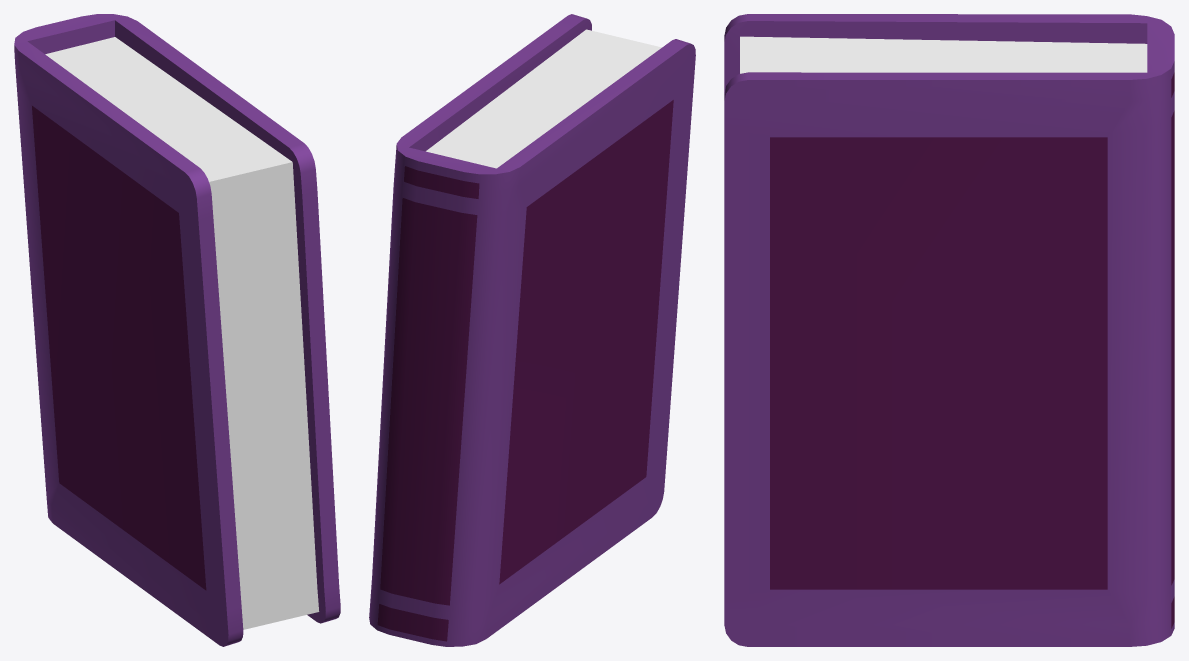
Rendered from book_13.fbx.
3 renders of one model, left to right at view 1: azimuth 30°, elevation 25°; view 2: azimuth 150°, elevation 25°; view 3: azimuth 270°, elevation 25°, orthographic. The views are drawn at different scales.
Visible parts, largest first — view 1: book_13; view 2: book_13; view 3: book_13.
Boxes of the visible parts, bbox=[...] form: book_13: bbox=[14, 14, 340, 646]; book_13: bbox=[369, 14, 695, 646]; book_13: bbox=[724, 14, 1174, 646].
Bounding box in the file's own units: 0.1101 × 0.3466 × 0.2557.
